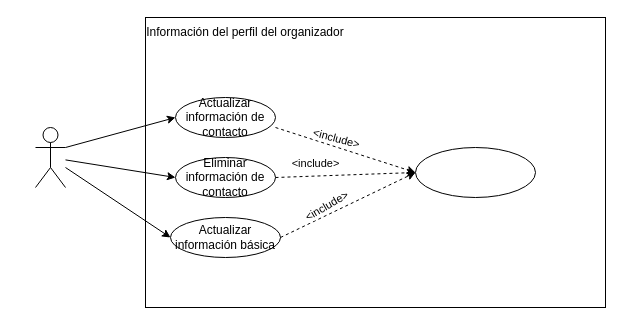
Image size: 623x325. Some labels were removed from this diagram. Each missing label, with the centre of its shape:
"Iniciar sesión" belongs at (x=475, y=172).
"Organizador" belongs at (x=50, y=157).
